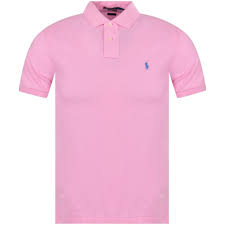C_polo shirt: (20, 3, 203, 225)
